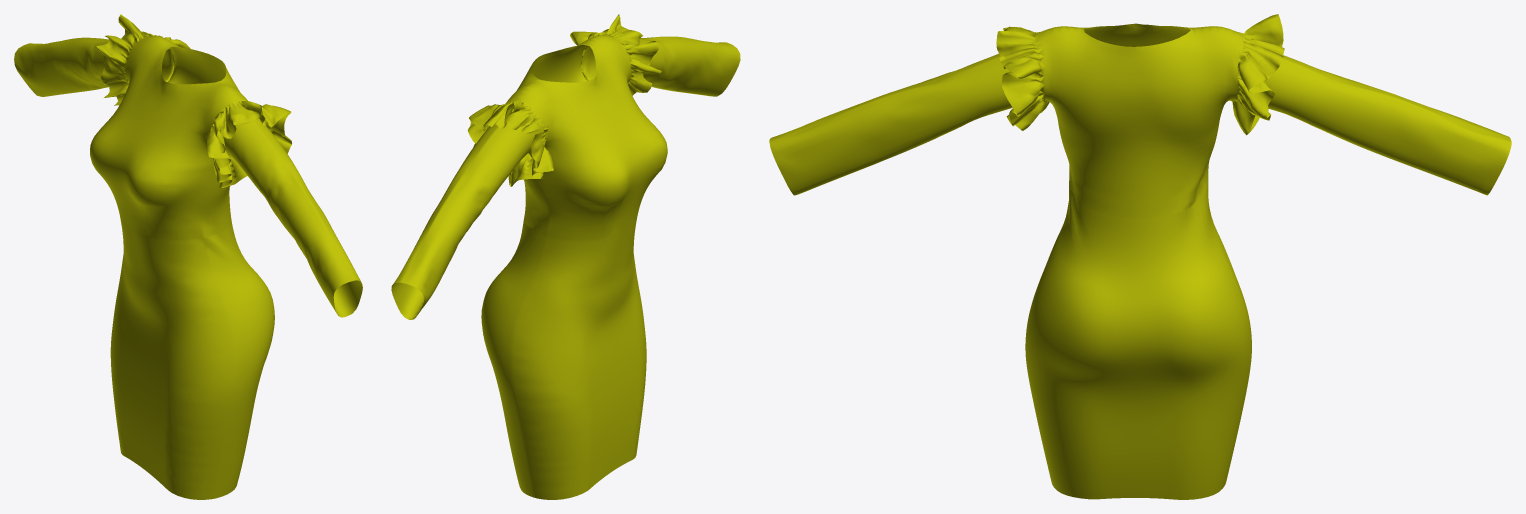
File: Yellow_accordian.glb
3 views of the same model, side by side, from view 1: azimuth 30°, elevation 25°; view 2: azimuth 150°, elevation 25°; view 3: azimuth 270°, elevation 25° (orthographic). The views are drawn at different scales.
Parts seen in each view (by area): view 1: 1.001; view 2: 1.001; view 3: 1.001.
Part boxes in pixels (x1,y1,x2,y2): 1.001: (14, 14, 362, 499); 1.001: (391, 14, 740, 499); 1.001: (769, 14, 1511, 499).
Bounding box in the file's own units: 10.48 × 29.51 × 42.32.
